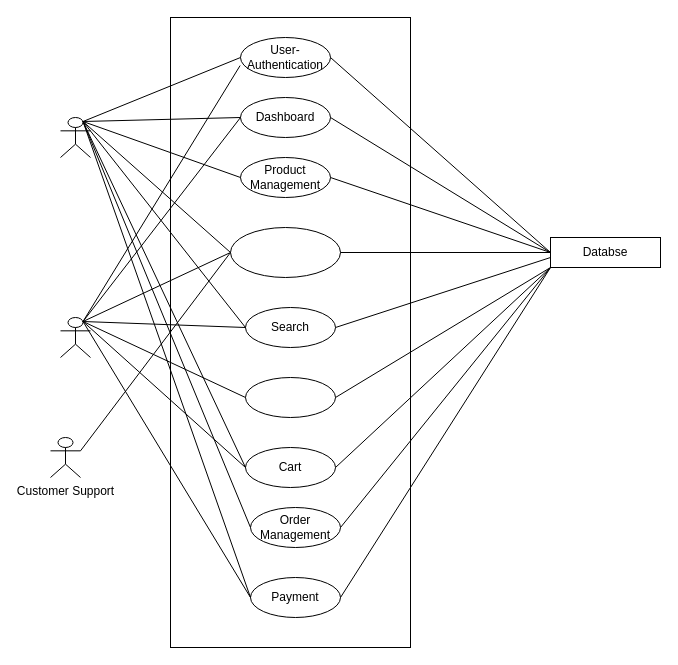
The diagram is 678 pixels wide and 665 high, and some of its shapes have lost their labels. Each missing label, with the centre of its shape:
Adminstrator: the point at 75,137
Chatbot: the point at 290,397
Customer: the point at 75,337
Feedback and Recommendation System: the point at 285,252
